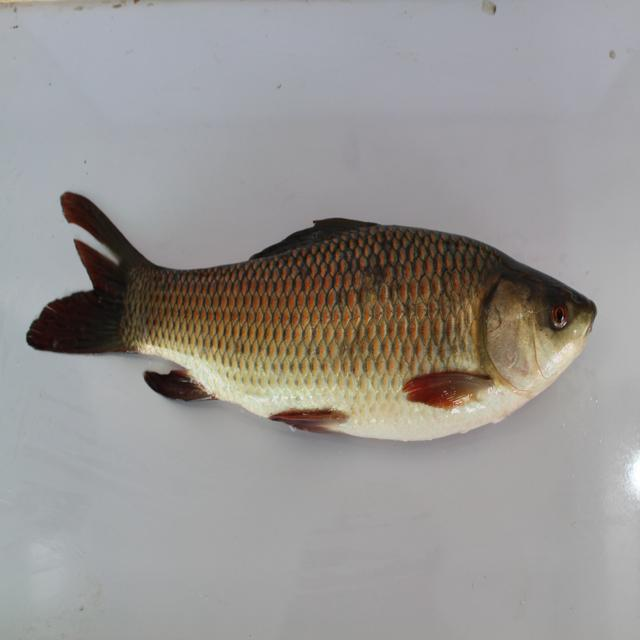Rohu: (21, 181, 618, 461)
